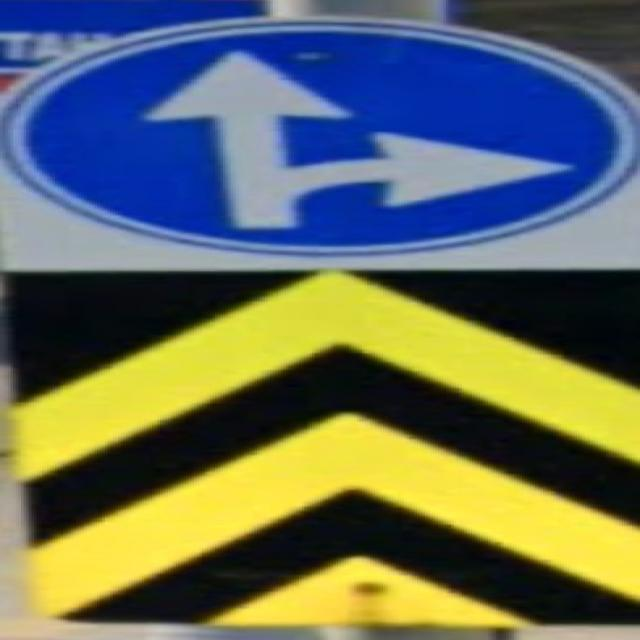Straight or Right: (18, 22, 629, 251)
